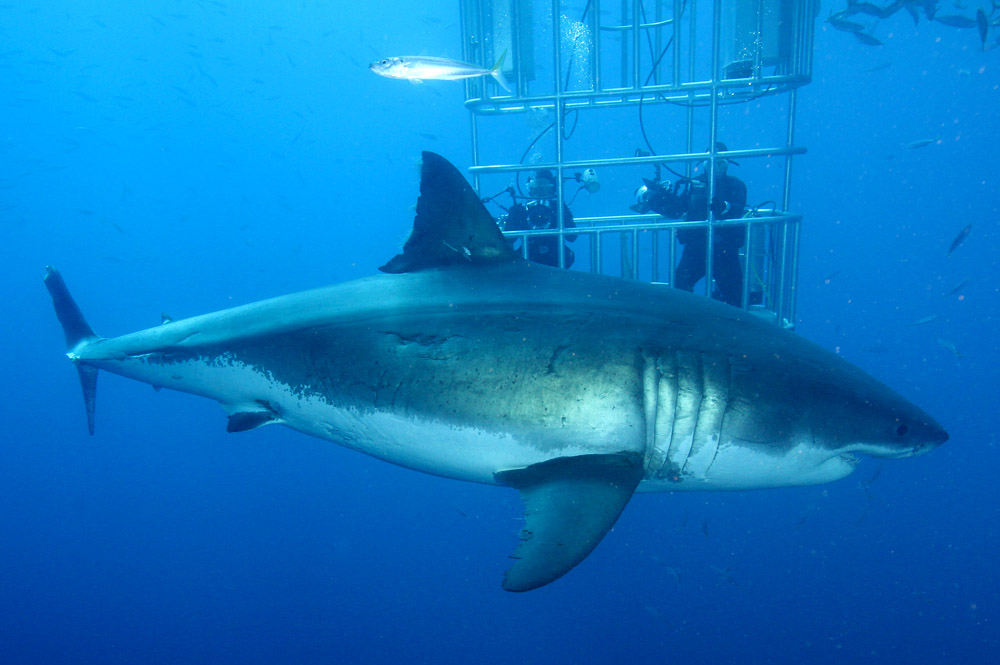Carcharodon_carcharias: (41, 152, 944, 608)
